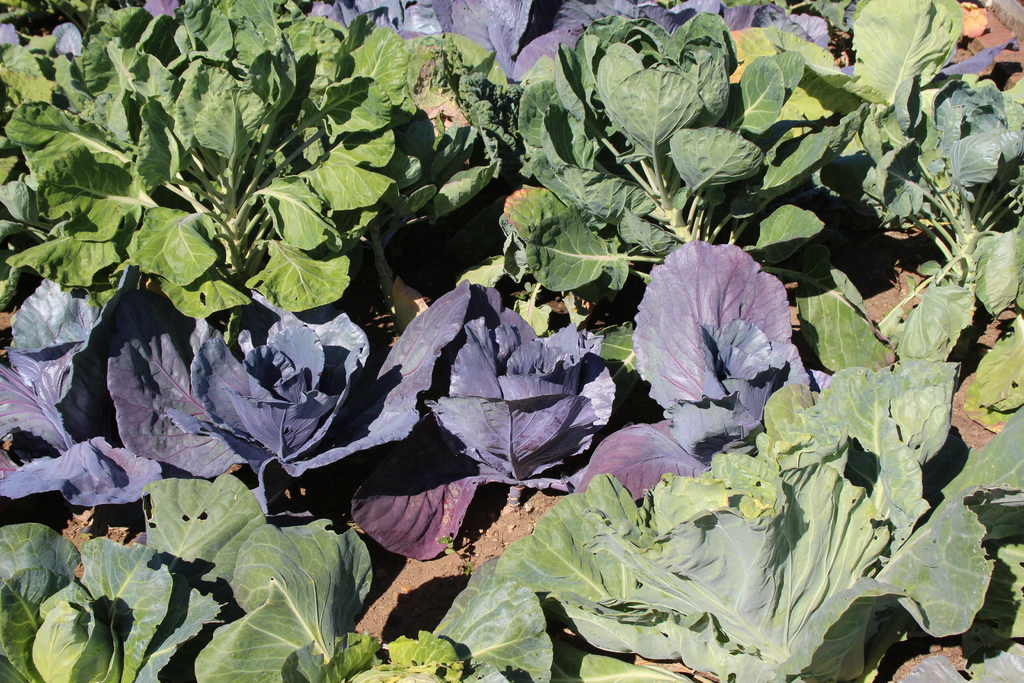Cabbage: (0, 0, 1024, 683)
